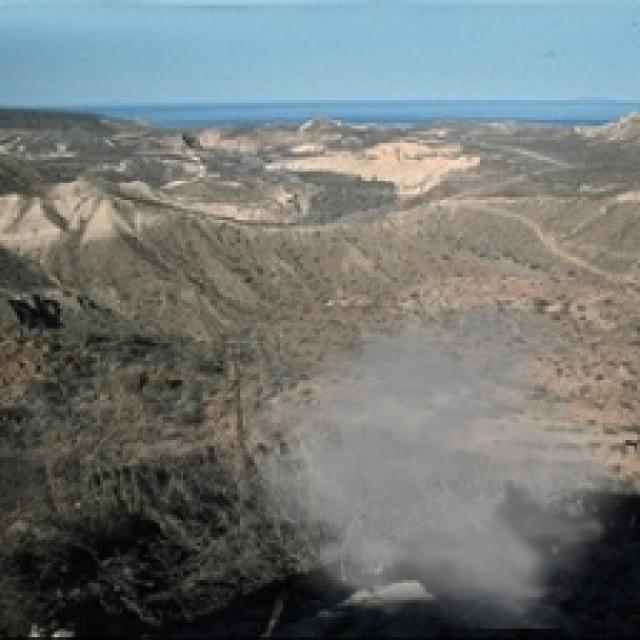Smoke: (222, 272, 638, 632)
